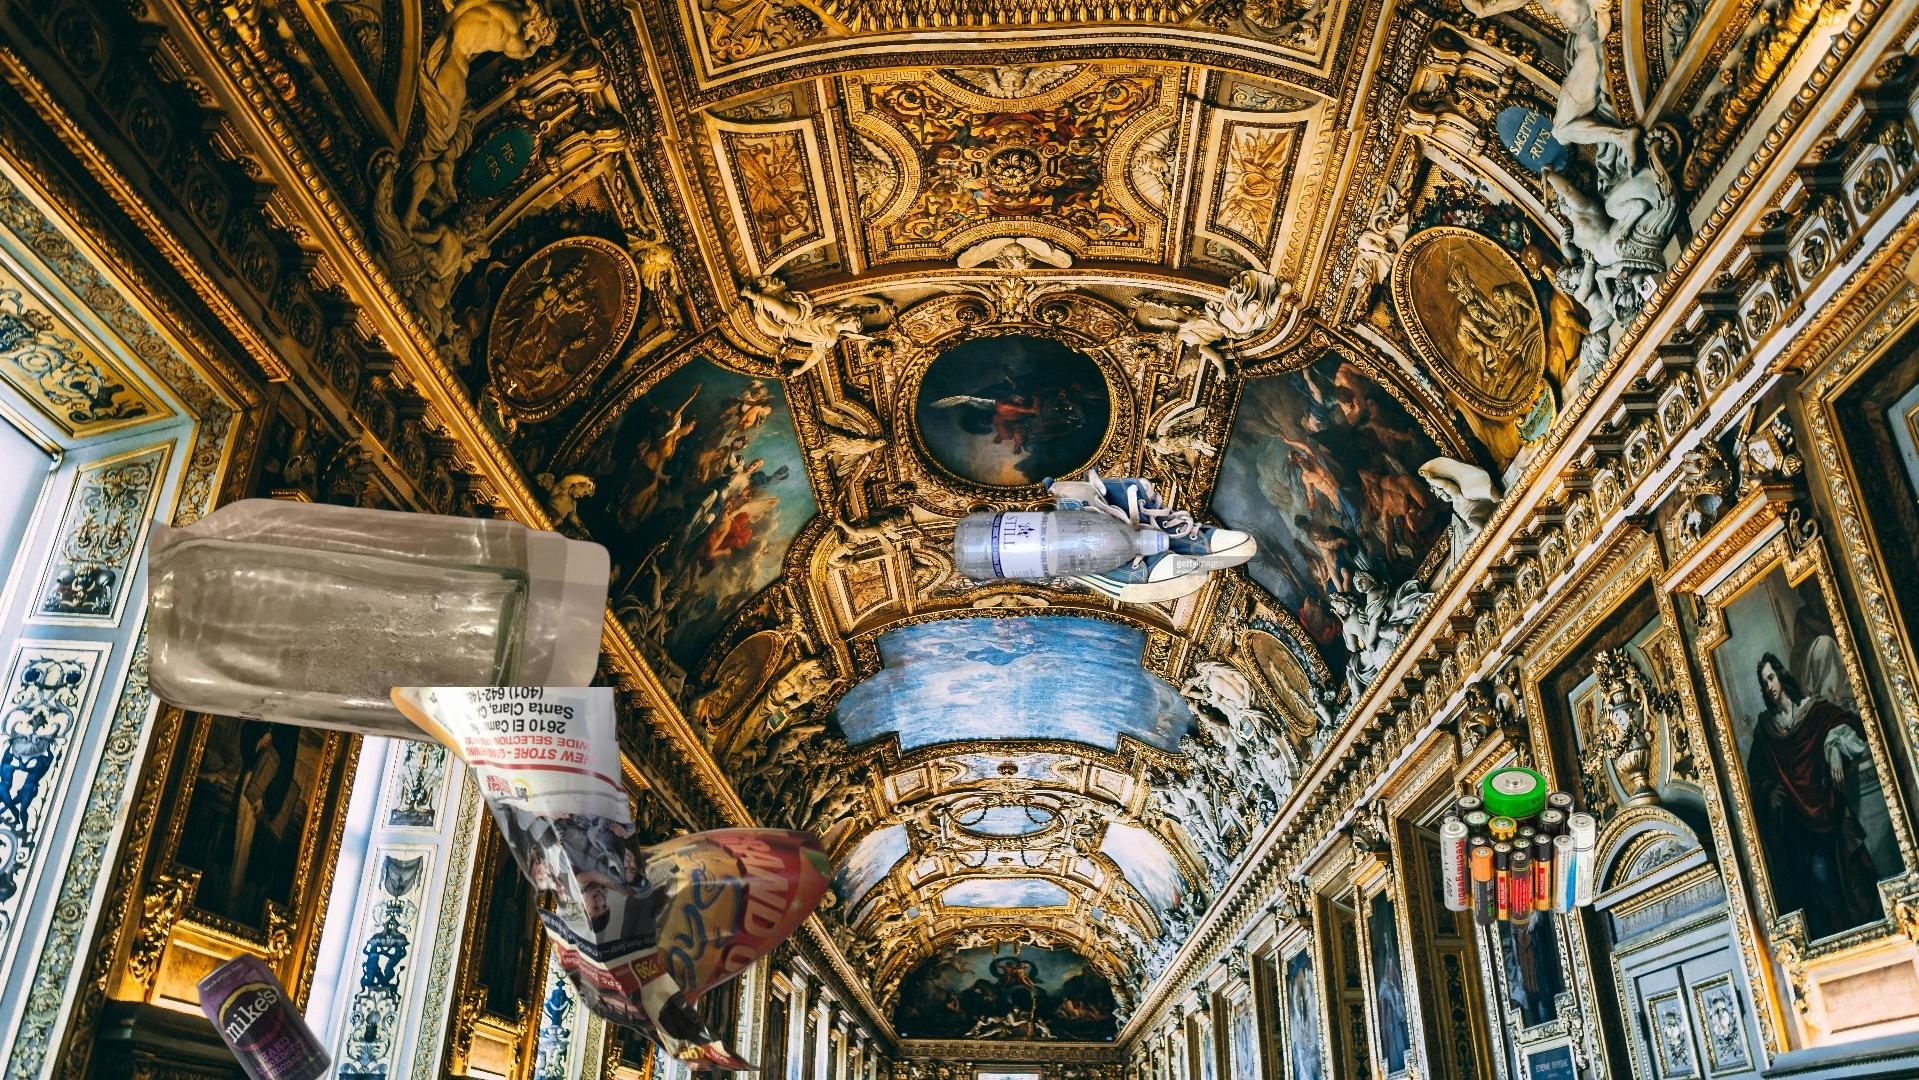battery: (1437, 764, 1597, 931)
clothes: (1899, 149, 1919, 520)
glass: (148, 495, 616, 757)
metal-cans: (191, 949, 336, 1080)
paper: (386, 687, 836, 1071)
plastic-bottles: (919, 502, 1406, 789)
shoes: (1039, 463, 1260, 607)
